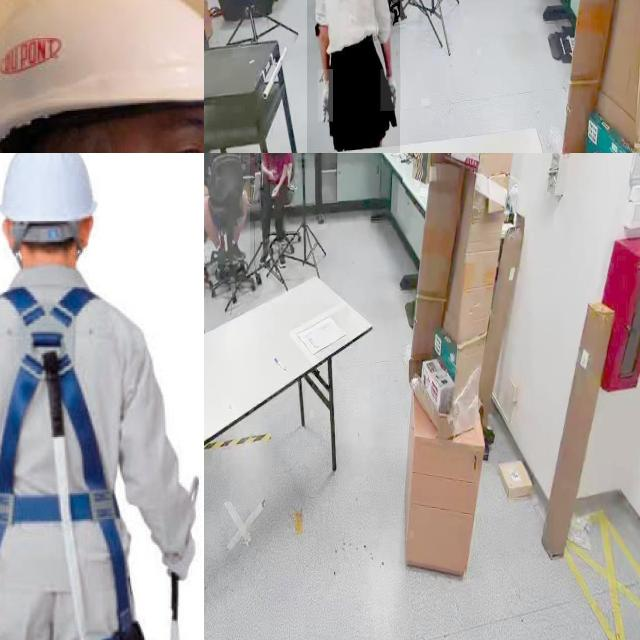Harness: (0, 285, 148, 640)
No_Glasses: (135, 104, 204, 153)
hand_glove: (380, 69, 402, 112), (318, 69, 334, 123)
hand_noglove: (268, 167, 278, 181), (270, 184, 280, 197)
person: (307, 0, 400, 153), (204, 153, 250, 265), (259, 153, 295, 259)
shoes: (225, 233, 247, 266)
